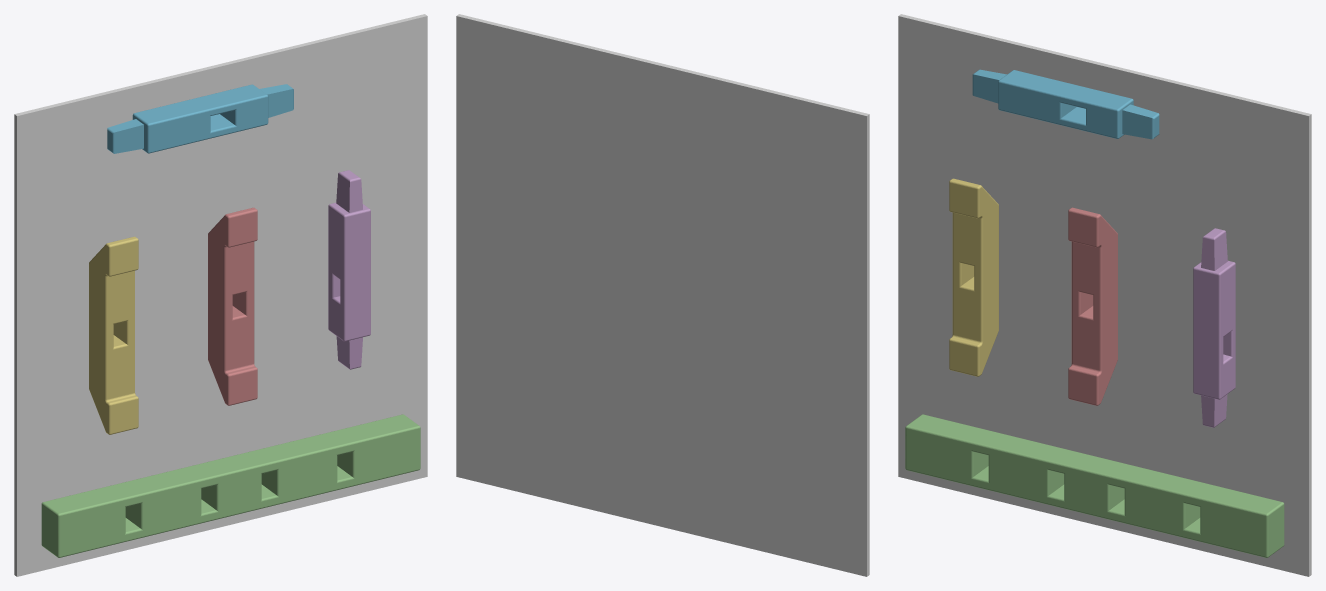
File: pickup_layout.glb
3 views of the same model, side by side, from view 1: azimuth 30°, elevation 25°; view 2: azimuth 150°, elevation 25°; view 3: azimuth 330°, elevation 25° (orthographic).
Visible parts, largest first — view 1: world, 6.obj, 0.obj, 1.obj, 2.obj, 3.obj; view 2: world; view 3: world, 6.obj, 0.obj, 1.obj, 2.obj, 3.obj.
Boxes of the visible parts, x1,y1,x2,y2 form: world: (14,14,427,576); 6.obj: (41,414,420,557); 0.obj: (208,207,257,405); 1.obj: (89,236,138,434); 2.obj: (107,84,293,153); 3.obj: (328,170,370,369); world: (456,14,869,576); world: (898,14,1311,576); 6.obj: (905,414,1284,557); 0.obj: (1068,207,1117,405); 1.obj: (949,178,998,376); 2.obj: (972,69,1159,139); 3.obj: (1193,228,1235,427).
Size of the model in its own units: 17.24 by 18.49 by 1.72.
